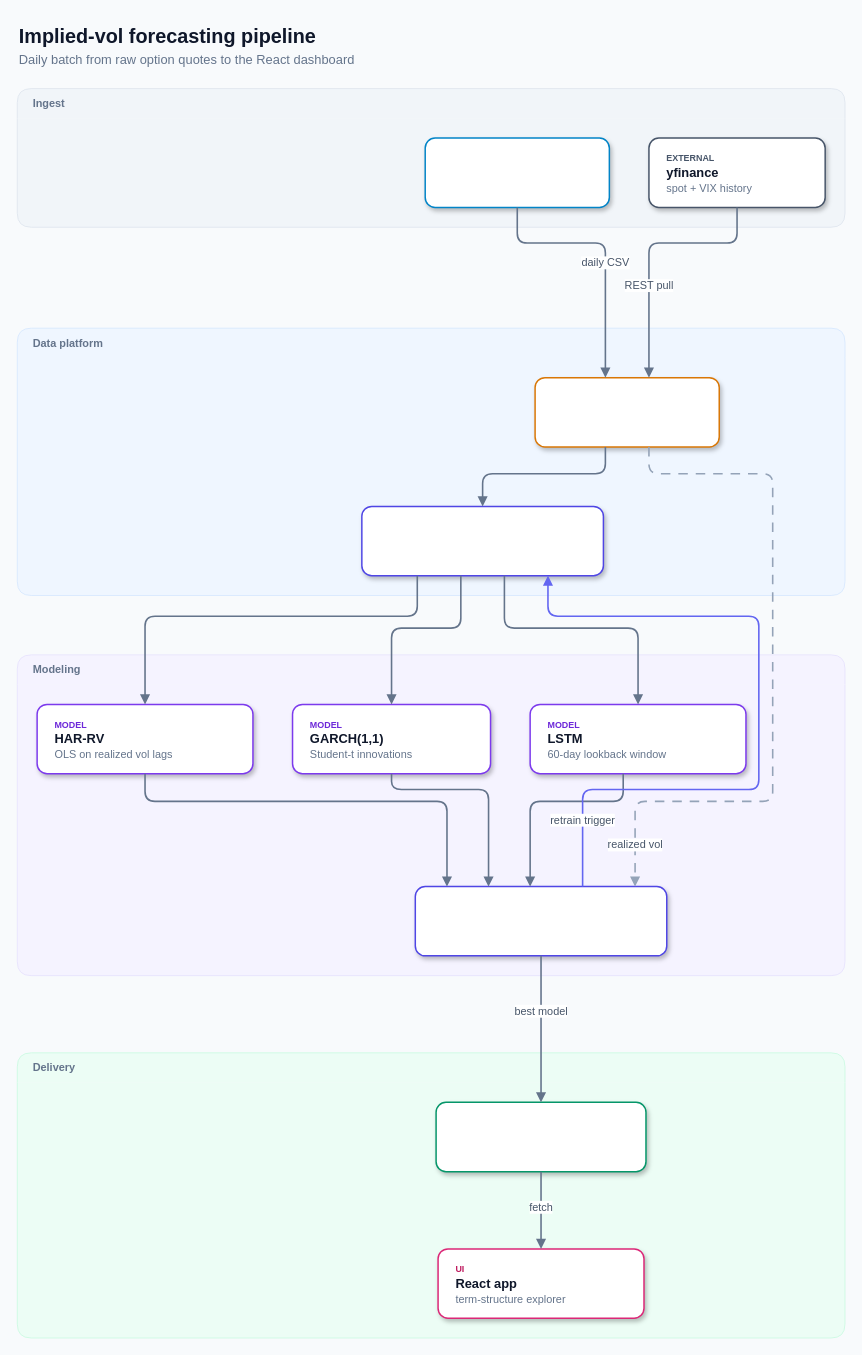
Image size: 862x1355. Some labels were removed from this diagram. Each missing label, with the centre of its shape:
"OUTPUT JSON export forecasts.json per tenor" belongs at (x=541, y=1138).
"PROCESS Evaluation QLIKE, MSE, Diebold-Mariano" belongs at (x=541, y=922).
"PROCESS Feature builder RV 1d/5d/22d, ATM IV, skew" belongs at (x=483, y=542).
"SOURCE CBOE CSV EOD option chains" belongs at (x=518, y=174).
"STORE Raw store partitioned Parquet" belongs at (x=627, y=413).
